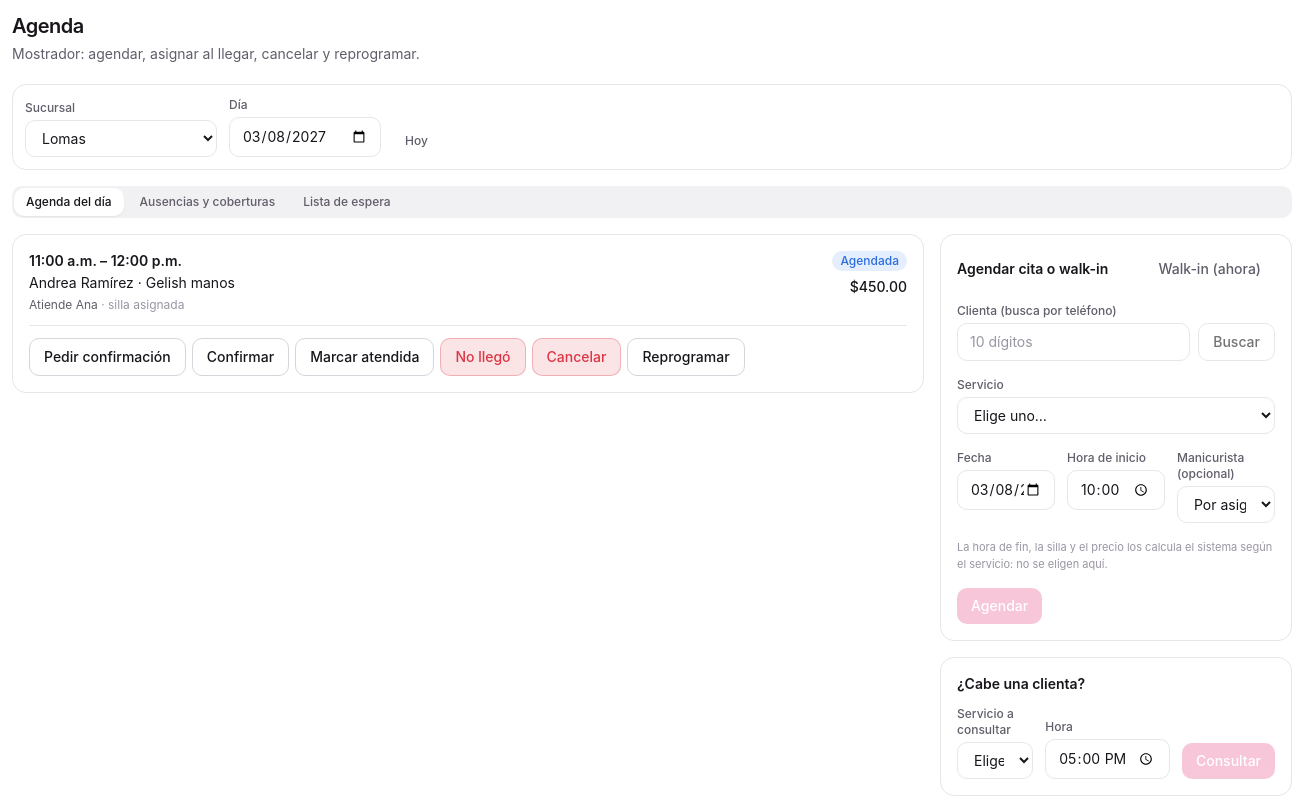
Test: Agenda Operativa — cancelar con confirmación consciente › distingue `listaEspera: null` ("no se pudo procesar") de "no había nadie"
Click the button "Cancelar" at [576, 357], box [532,338,621,376]
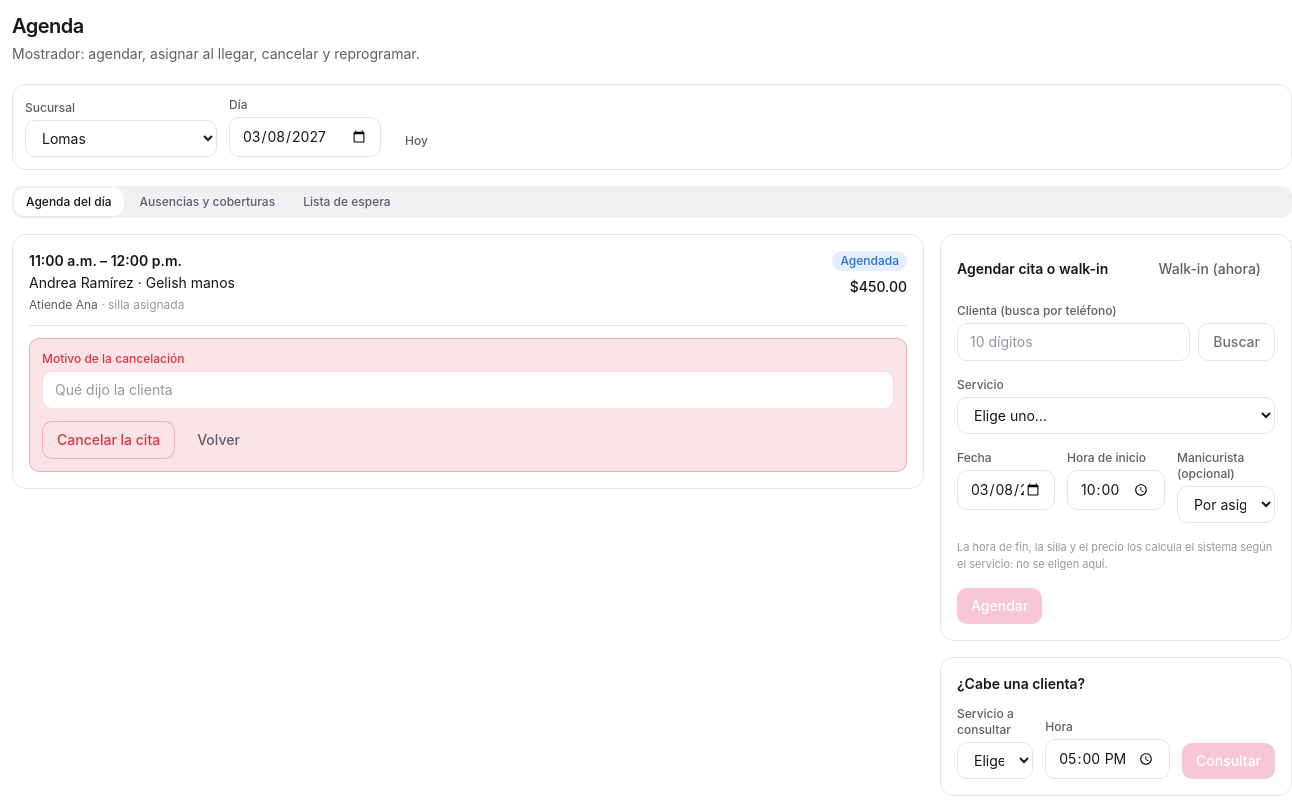
Click the button "Cancelar la cita" at [109, 440], box [42,421,175,459]
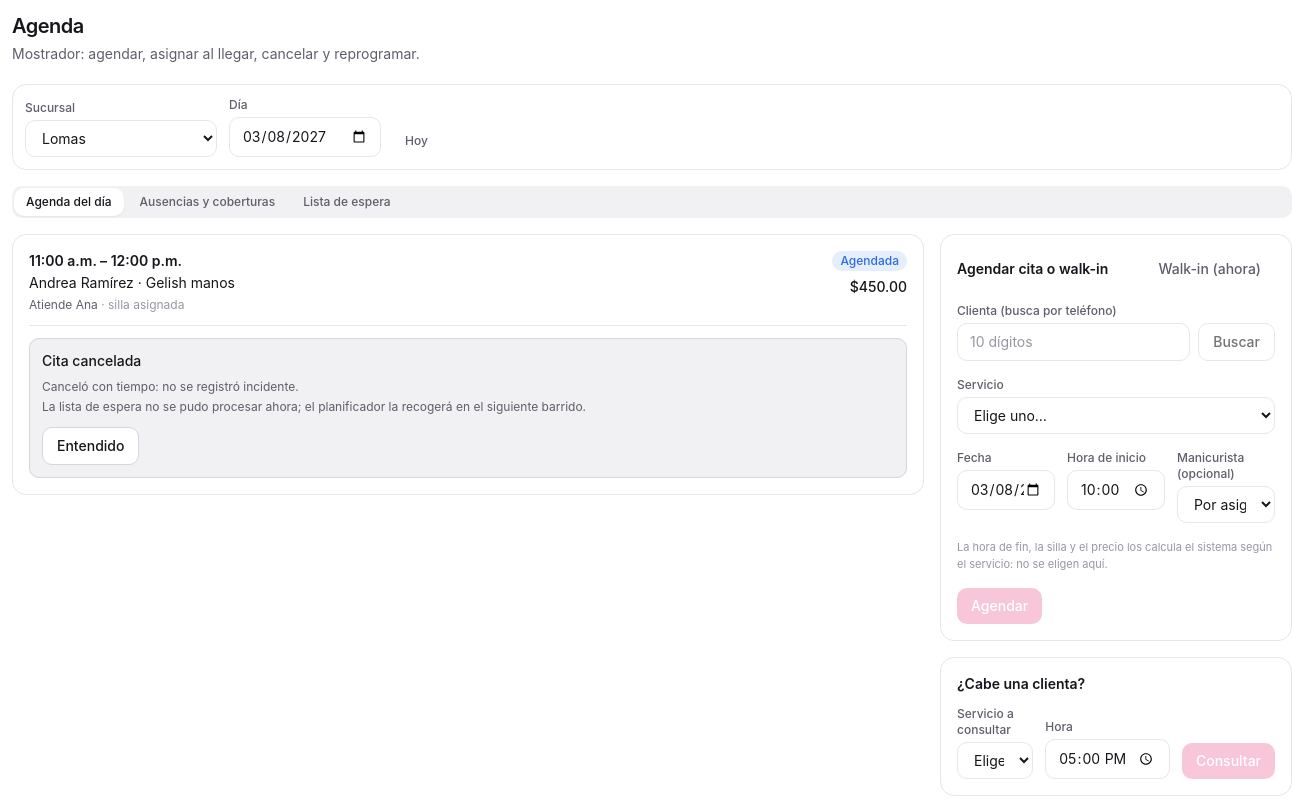
Expected: the message does not show "No había nadie", [29,338,907,478]
Expected: the message shows "no se pudo procesar ahora", [42,399,586,414]
